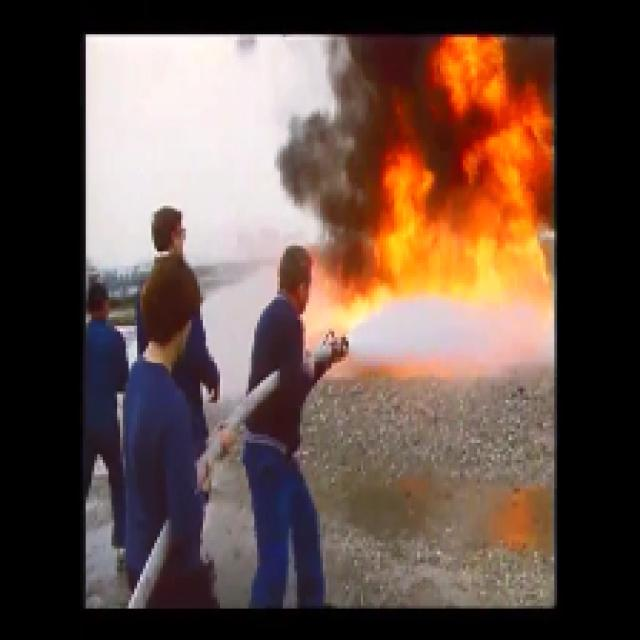fire: (378, 183, 538, 302), (436, 37, 508, 156)
smoke: (342, 38, 416, 148)
